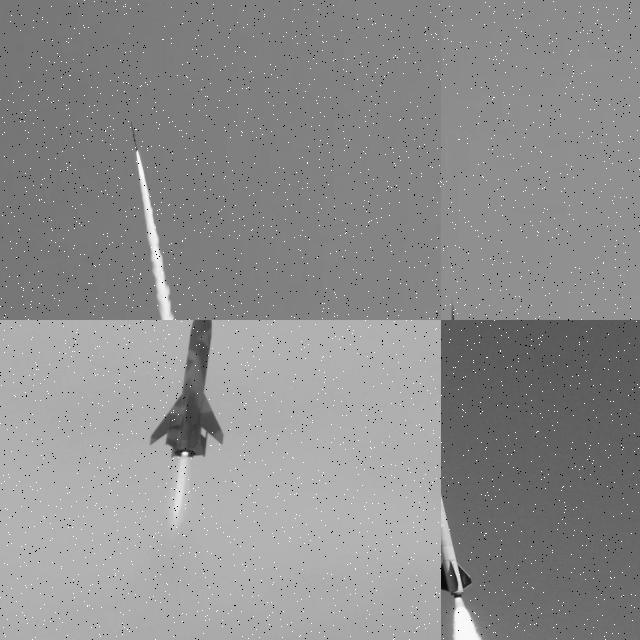Rocket: (149, 320, 224, 458), (441, 386, 473, 597), (130, 120, 138, 152)
